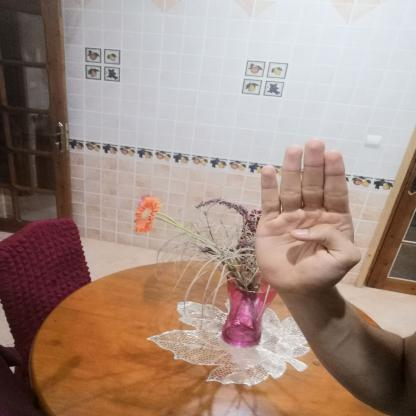KAAF: (236, 130, 378, 310)
